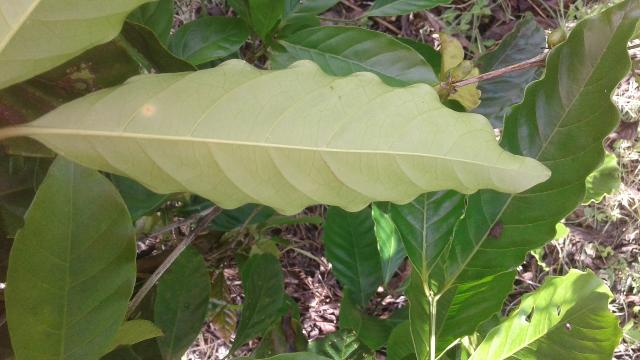rust_level_1: (19, 53, 567, 218)
